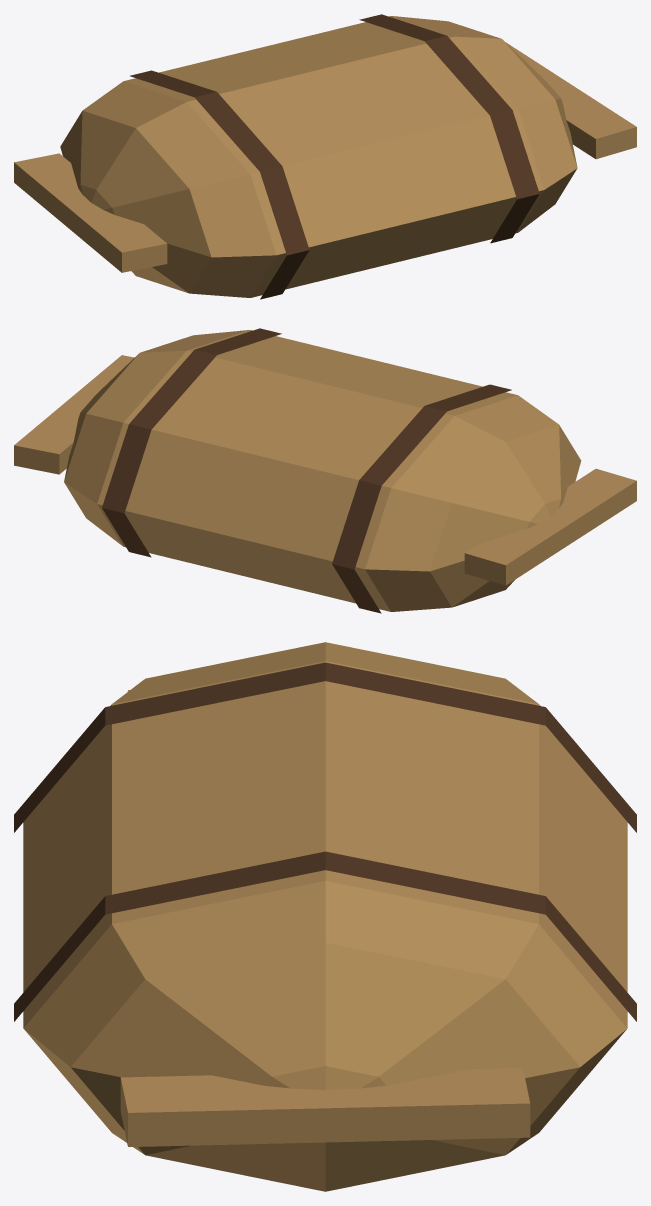
File: sandbag.glb
3 renders of one model, top to bottom at view 1: azimuth 30°, elevation 25°; view 2: azimuth 150°, elevation 25°; view 3: azimuth 270°, elevation 25°, orthographic. The views are drawn at different scales.
Visible parts, largest first — view 1: _MeshInstance3D_4496; view 2: _MeshInstance3D_4496; view 3: _MeshInstance3D_4496.
Part boxes in pixels (x1=…): _MeshInstance3D_4496: x1=14, y1=14, x2=636, y2=299; _MeshInstance3D_4496: x1=14, y1=328, x2=636, y2=613; _MeshInstance3D_4496: x1=14, y1=642, x2=636, y2=1191.
Size of the model in its own units: 0.7646 by 0.2566 by 0.4759.
